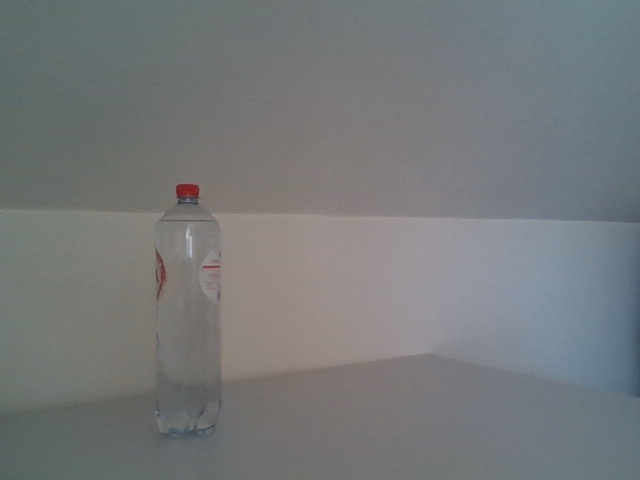bottle: (153, 183, 222, 440)
